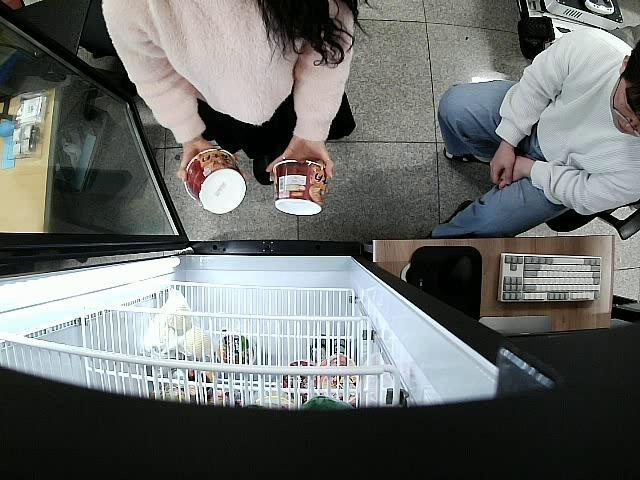05_nuguri_L: (185, 149, 247, 216), (272, 160, 329, 217)
